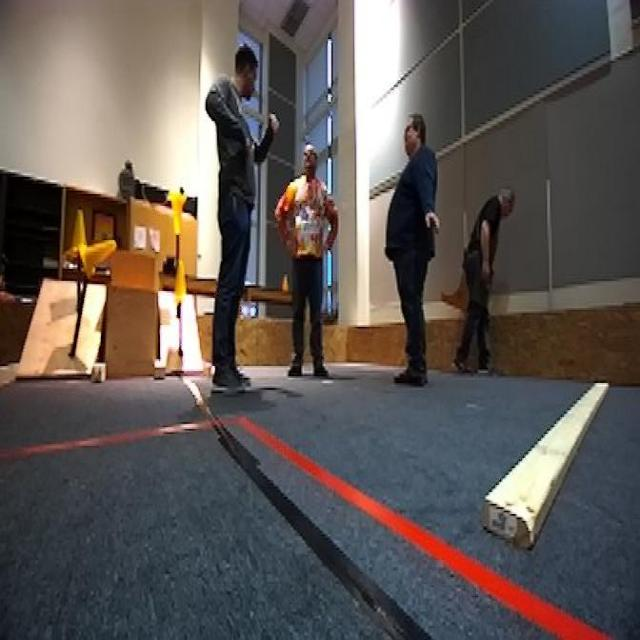frc_cone: (74, 235, 115, 279), (68, 209, 90, 257), (166, 191, 188, 235), (172, 258, 188, 304)
